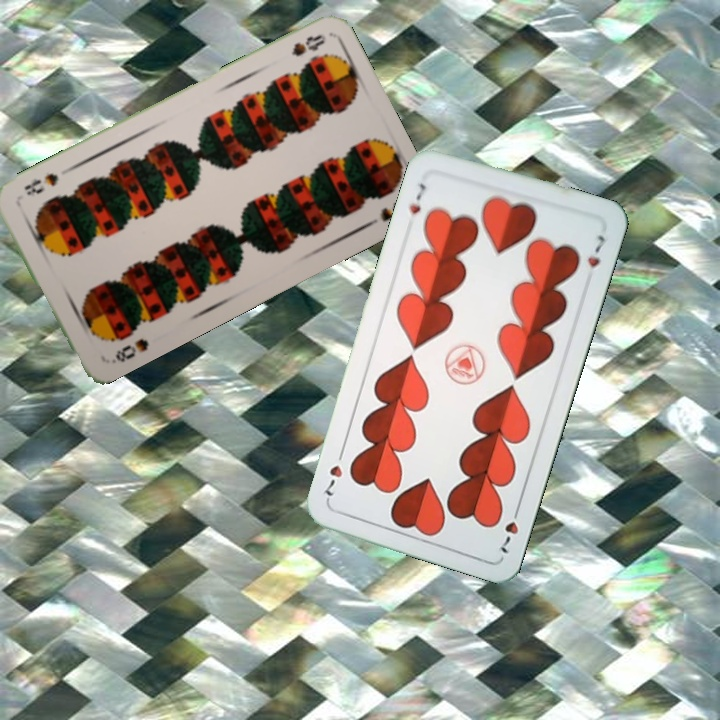H7: (496, 500, 524, 556), (405, 179, 429, 217)
S8: (107, 334, 152, 367), (287, 30, 329, 59)
